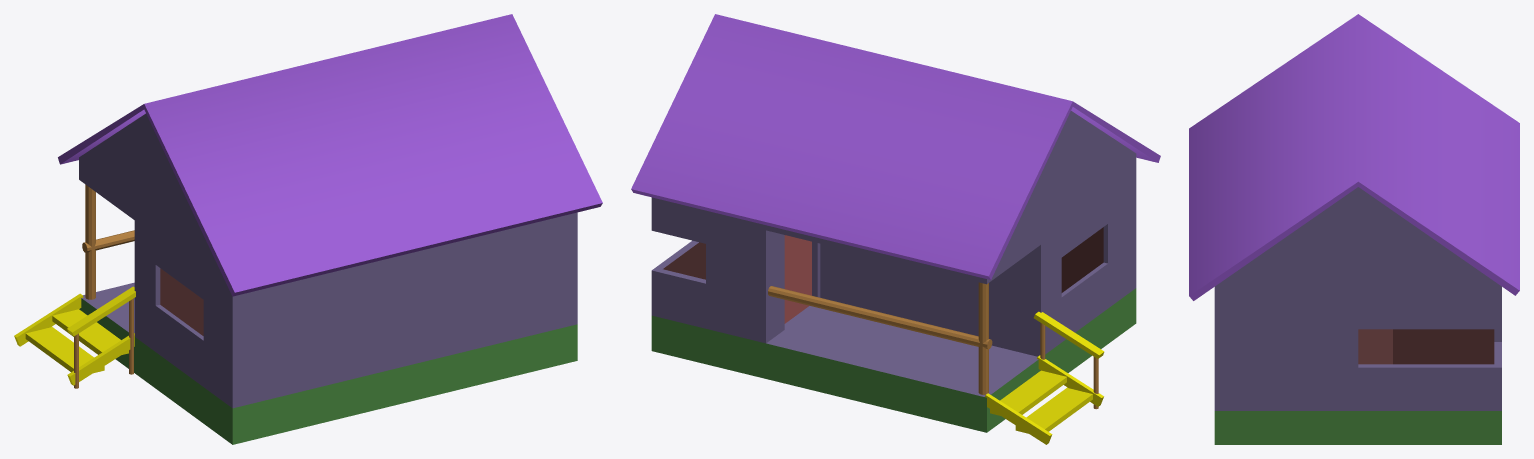
Rendered from SM_CabinStylized.fbx.
3 renders of one model, left to right at view 1: azimuth 30°, elevation 25°; view 2: azimuth 150°, elevation 25°; view 3: azimuth 270°, elevation 25°, orthographic. The views are drawn at different scales.
Visible parts, largest first — view 1: Roof, Cabin, pCube1, Step1, Step2, Log_Big, Side_Step_Right, Handrail, Side_Step_Left; view 2: Cabin, Roof, pCube1, Log_Horizontal, Step2, Step1, Log_Big, Side_Step_Left, Handrail, Side_Step_Right; view 3: Roof, Cabin, pCube1.
Part boxes in pixels (x1,y1,x2,y2): Roof: (58,14,602,296); Cabin: (79,113,577,444); pCube1: (160,268,203,335); Step1: (25,326,104,373); Step2: (52,309,128,354); Log_Big: (85,184,95,299); Side_Step_Right: (67,333,134,385); Handrail: (67,286,135,336); Side_Step_Left: (14,293,83,346); Cabin: (651,111,1136,432); Roof: (631,14,1160,279); pCube1: (663,227,1103,292); Log_Horizontal: (768,286,992,349); Step2: (990,370,1066,415); Step1: (1015,387,1092,433); Log_Big: (978,282,988,394); Side_Step_Left: (985,393,1052,444); Handrail: (1033,311,1104,358); Side_Step_Right: (1037,355,1103,406); Roof: (1189,14,1519,300); Cabin: (1214,187,1501,444); pCube1: (1358,329,1494,364).
Size of the model in its own units: 8.21 by 5.38 by 5.98.
